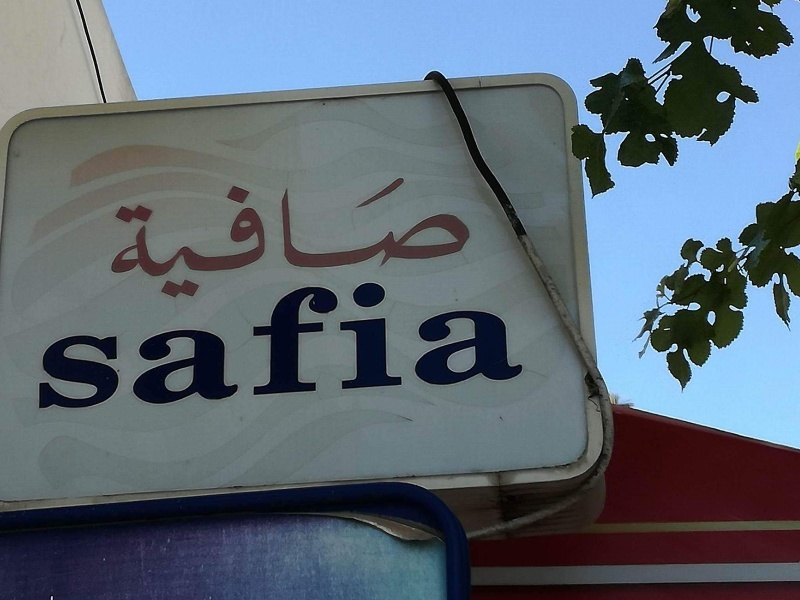text: (49, 261, 64, 425), (65, 261, 80, 425), (81, 261, 96, 425), (97, 261, 112, 425), (113, 261, 128, 425), (129, 261, 144, 425), (145, 261, 160, 425), (161, 261, 176, 425), (177, 261, 192, 425), (193, 261, 208, 425), (209, 261, 224, 425), (225, 261, 240, 425), (241, 261, 256, 425), (257, 261, 272, 425), (273, 261, 288, 425), (289, 261, 304, 425), (305, 261, 320, 425), (321, 261, 336, 425), (337, 261, 352, 425), (353, 261, 368, 425), (369, 261, 384, 425), (385, 261, 400, 425), (401, 261, 416, 425), (417, 261, 432, 425), (433, 261, 448, 425), (449, 261, 464, 425), (465, 261, 480, 425), (481, 261, 496, 425), (497, 261, 512, 425), (513, 261, 528, 425), (113, 177, 128, 308), (129, 177, 144, 308), (145, 177, 160, 308), (161, 177, 176, 308), (177, 177, 192, 308), (193, 177, 208, 308), (209, 177, 224, 308), (225, 177, 240, 308), (241, 177, 256, 308), (257, 177, 272, 308), (273, 177, 288, 308), (289, 177, 304, 308), (305, 177, 320, 308), (321, 177, 336, 308), (337, 177, 352, 308), (353, 177, 368, 308), (369, 177, 384, 308), (385, 177, 400, 308), (401, 177, 416, 308), (417, 177, 432, 308), (433, 177, 448, 308), (449, 177, 464, 308), (529, 261, 537, 425), (41, 261, 48, 425), (104, 177, 112, 308), (465, 177, 473, 308)
